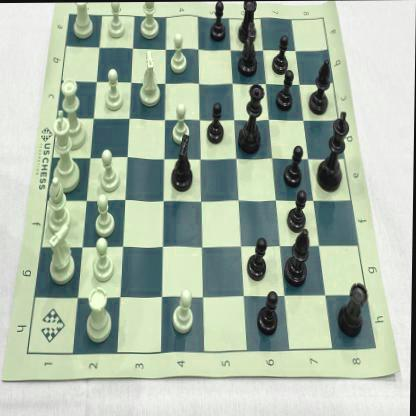black-bishop: (284, 228, 312, 288), (309, 57, 333, 116)
black-king: (317, 108, 351, 194)
black-knight: (170, 132, 194, 192), (236, 22, 260, 78)
black-pawn: (245, 236, 270, 284), (258, 289, 280, 338), (286, 190, 310, 232), (274, 70, 295, 114), (284, 144, 304, 187), (208, 1, 228, 42), (271, 34, 290, 74), (206, 102, 224, 144)
black-queen: (239, 82, 264, 155)
black-rook: (336, 278, 370, 340), (236, 1, 258, 44)
white-bishop: (45, 175, 72, 233), (138, 2, 162, 40)
white-king: (50, 108, 82, 194)
white-knight: (46, 221, 77, 282), (138, 50, 160, 107)
white-pawn: (92, 236, 116, 282), (171, 286, 195, 332), (167, 30, 189, 76), (98, 148, 121, 192), (94, 194, 117, 236), (170, 101, 191, 146), (104, 66, 124, 112), (107, 2, 126, 40)
white-queen: (56, 76, 88, 152)
white-rook: (85, 284, 115, 346), (71, 2, 96, 41)
